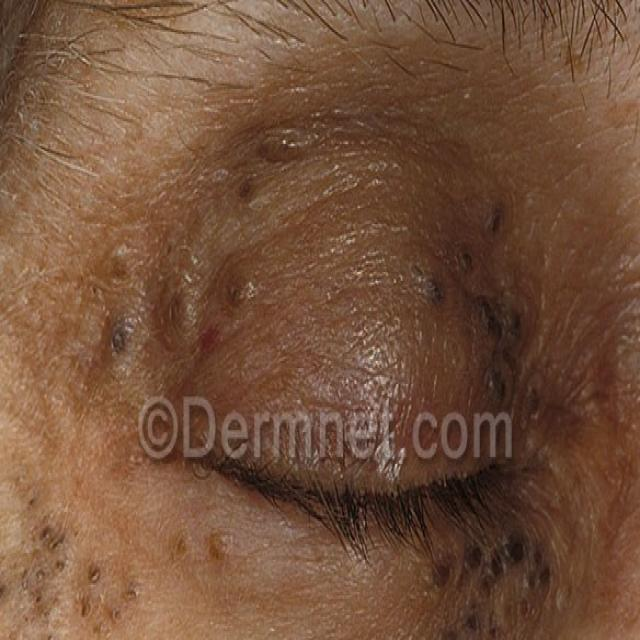Acne: (64, 178, 282, 441), (387, 160, 570, 427), (0, 476, 192, 640), (416, 514, 575, 640)
